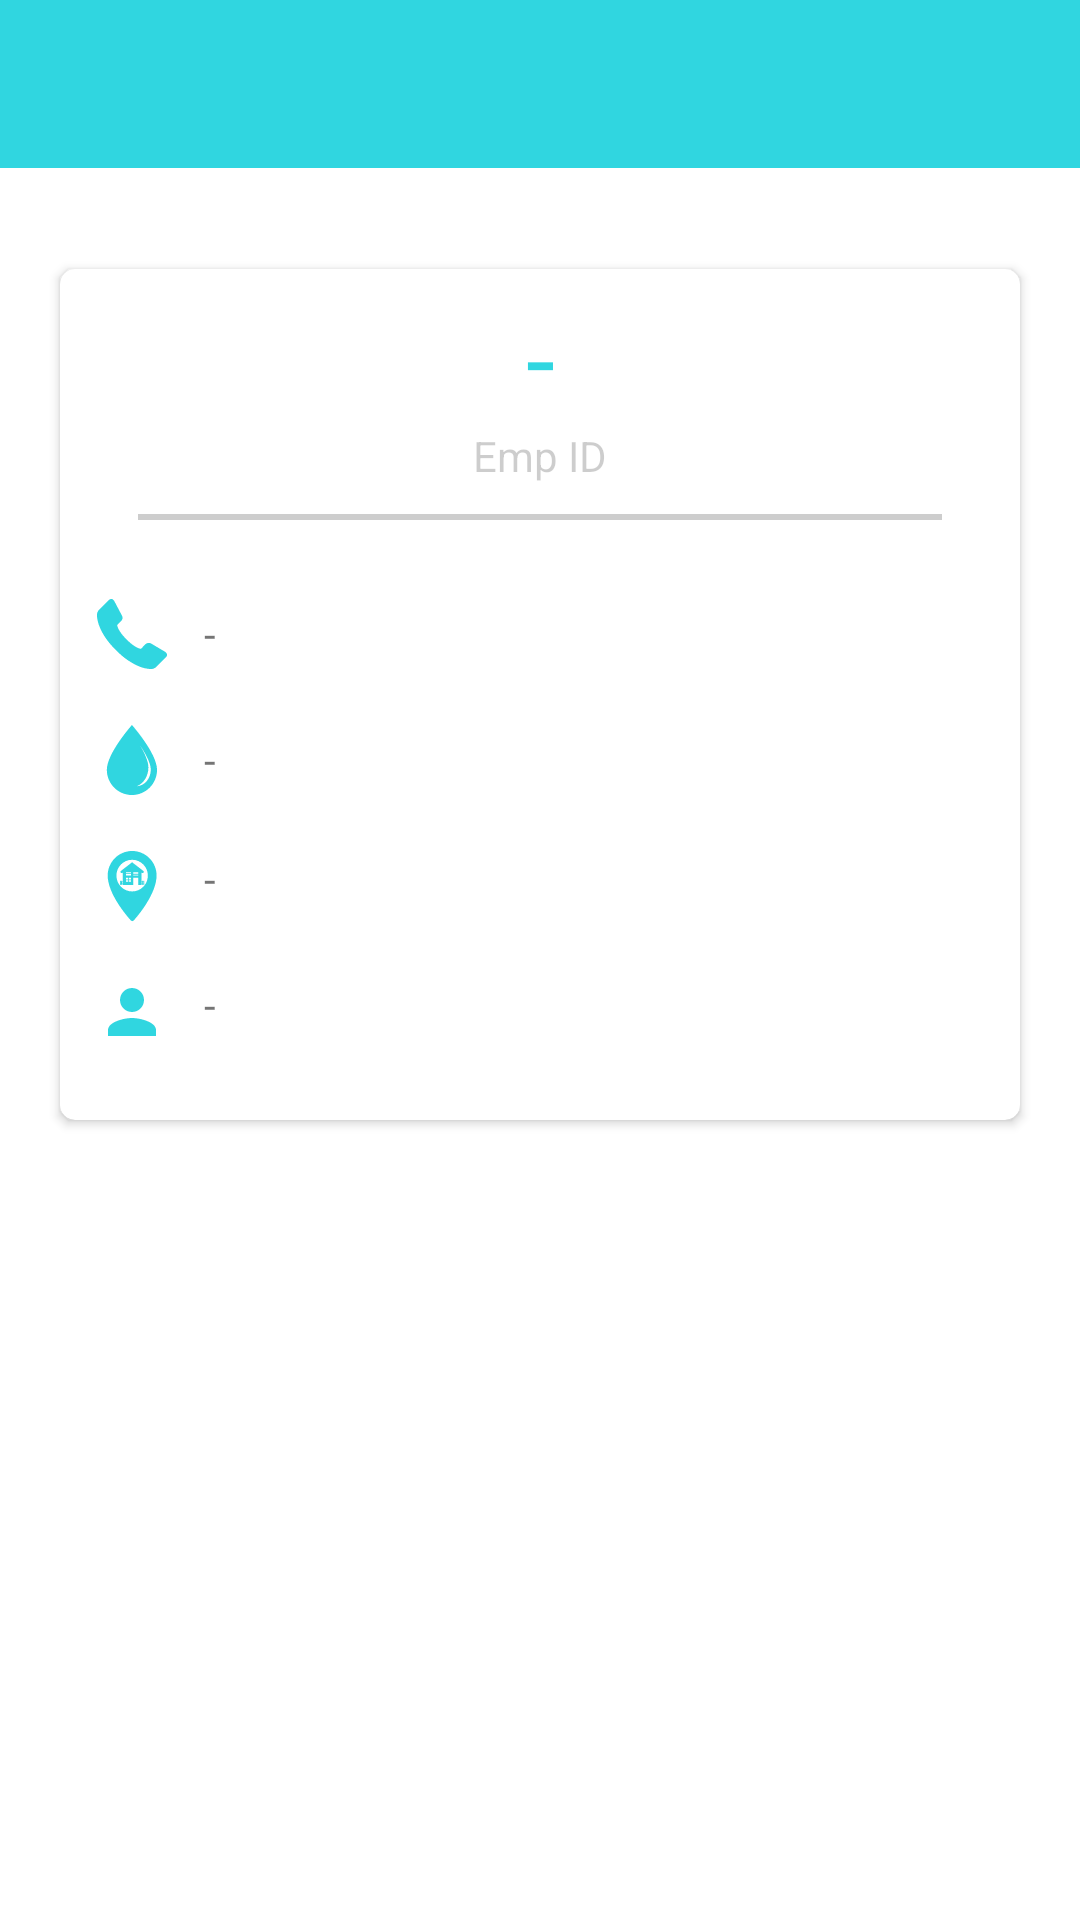

Named icons in this screenshot (1080w x 1920h) and their centers, point (x, y):
address: point (132, 886)
person: point (132, 1012)
